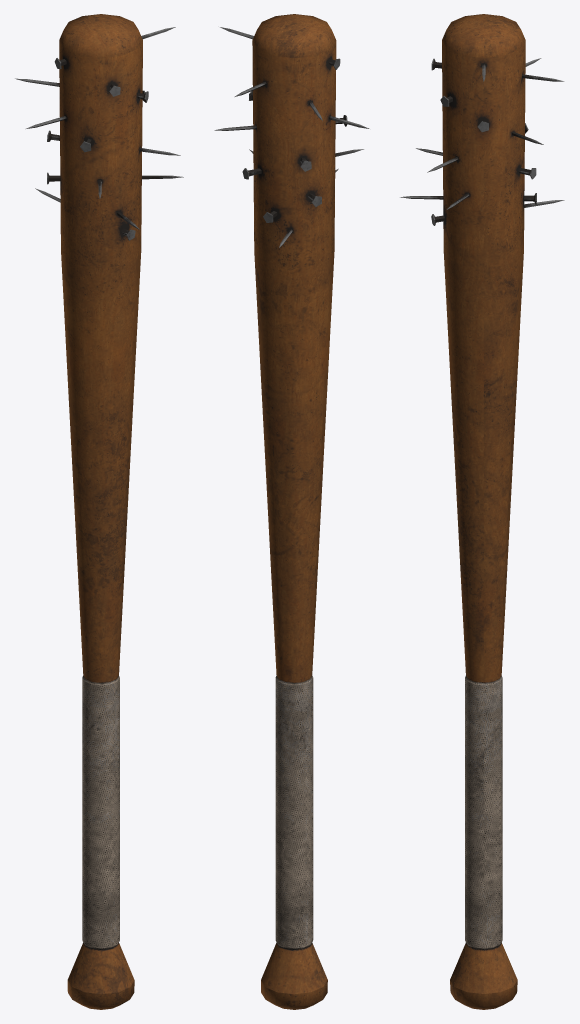
Rendered from Baseball_bat_nails.fbx.
3 renders of one model, left to right at view 1: azimuth 30°, elevation 25°; view 2: azimuth 150°, elevation 25°; view 3: azimuth 270°, elevation 25°, orthographic.
Parts seen in each view (by area): view 1: Baseball_bat_nails; view 2: Baseball_bat_nails; view 3: Baseball_bat_nails.
Boxes of the visible parts, x1=… form: Baseball_bat_nails: x1=15, y1=14, x2=183, y2=1009; Baseball_bat_nails: x1=214, y1=14, x2=369, y2=1009; Baseball_bat_nails: x1=400, y1=14, x2=564, y2=1009.
Bounding box in the file's own units: 14.01 × 86.33 × 13.32.
